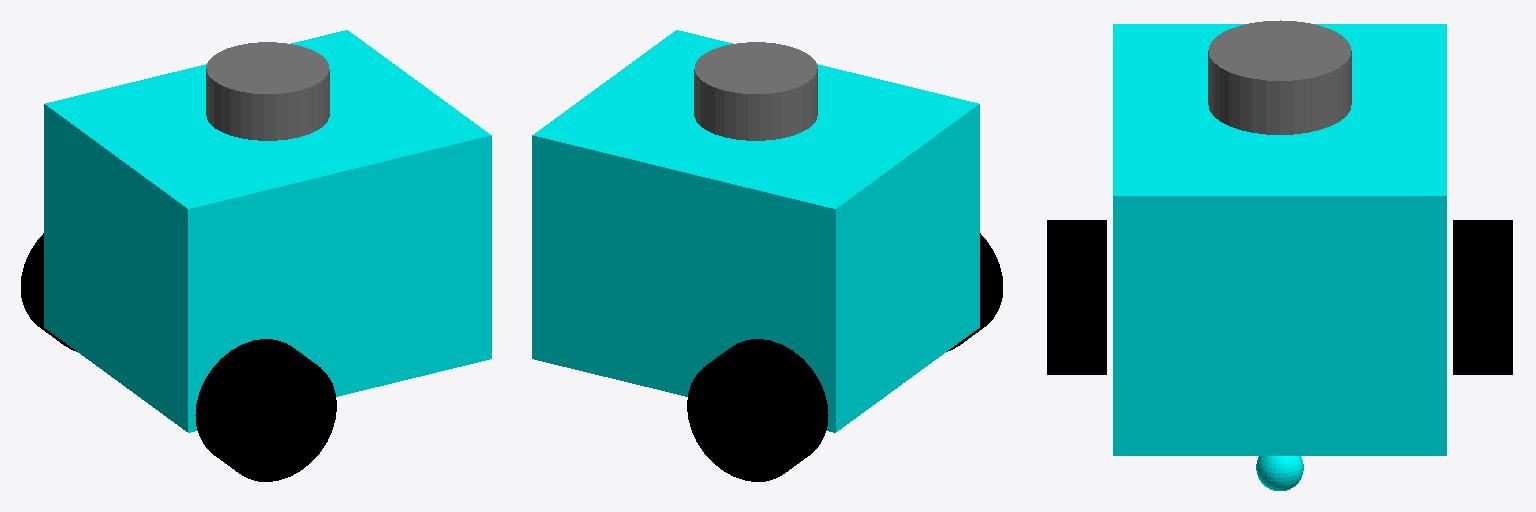
robot.urdf — hbot:
<?xml version="1.0" ?>
<!-- =================================================================================== -->
<!-- |    This document was autogenerated by xacro from hbot.urdf.xacro                | -->
<!-- |    EDITING THIS FILE BY HAND IS NOT RECOMMENDED                                 | -->
<!-- =================================================================================== -->
<robot name="hbot">
  <material name="red">
    <color rgba="0.8 0 0 1"/>
  </material>
  <material name="green">
    <color rgba="0 0.8 0 1"/>
  </material>
  <material name="blue">
    <color rgba="0 0 0.8 1"/>
  </material>
  <material name="yellow">
    <color rgba="0.8 0.8 0 1"/>
  </material>
  <material name="orange">
    <color rgba="0.8 0.25 0 1"/>
  </material>
  <material name="black">
    <color rgba="0 0 0 1"/>
  </material>
  <material name="dark_gray">
    <color rgba="0.5 0.5 0.5 1"/>
  </material>
  <material name="gray">
    <color rgba="0.753 0.753 0.753 1"/>
  </material>
  <material name="silver">
    <color rgba="0.88 0.88 0.88 1"/>
  </material>
  <material name="white">
    <color rgba="1 1 1 1"/>
  </material>
  <link name="base_footprint"/>
  <joint name="base_joint" type="fixed">
    <parent link="base_footprint"/>
    <child link="base_link"/>
    <origin rpy="0 0 0" xyz="0 0 0.0825"/>
  </joint>
  <link name="base_link">
    <visual>
      <geometry>
        <box size="0.17 0.14 0.12"/>
      </geometry>
      <material name="Cyan">
        <color rgba="0 1 1 1"/>
      </material>
    </visual>
    <collision>
      <geometry>
        <box size="0.17 0.14 0.12"/>
      </geometry>
    </collision>
    <inertial>
      <origin rpy="0 0 0" xyz="0 0 0"/>
      <mass value="0.5"/>
      <inertia ixx="0.0014166666666666668" ixy="0.0" ixz="0.0" iyy="0.0018041666666666668" iyz="0.0" izz="0.0020208333333333337"/>
    </inertial>
  </link>
  <gazebo reference="base_link">
    <material>Gazebo/Green</material>
  </gazebo>
  <link name="left_wheel_link">
    <visual>
      <origin rpy="1.5707963267948966 0 0" xyz="0 0 0"/>
      <geometry>
        <cylinder length="0.025" radius="0.0325"/>
        <cylinder length="0.01" radius="0.005">
          <origin rpy="0 0 0" xyz="0 0 0.0175"/>
        </cylinder>
      </geometry>
      <material name="Black">
        <color rgba="0 0 0 1"/>
      </material>
    </visual>
    <collision>
      <origin rpy="1.5707963267948966 0 0" xyz="0 0 0"/>
      <geometry>
        <cylinder length="0.025" radius="0.0325"/>
      </geometry>
    </collision>
    <inertial>
      <origin rpy="0 0 0" xyz="0 0 0"/>
      <mass value="0.1"/>
      <inertia ixx="3.161458333333334e-05" ixy="0.0" ixz="0.0" iyy="3.161458333333334e-05" iyz="0.0" izz="5.281250000000001e-05"/>
    </inertial>
  </link>
  <joint name="left_wheel_joint" type="continuous">
    <parent link="base_link"/>
    <child link="left_wheel_link"/>
    <origin rpy="0 0 0" xyz="-0.05 0.085 -0.05"/>
    <axis xyz="0 1 0"/>
  </joint>
  <gazebo reference="left_wheel_link">
    <material>Gazebo/Black</material>
  </gazebo>
  <link name="right_wheel_link">
    <visual>
      <origin rpy="1.5707963267948966 0 0" xyz="0 0 0"/>
      <geometry>
        <cylinder length="0.025" radius="0.0325"/>
        <cylinder length="0.01" radius="0.005">
          <origin rpy="0 0 0" xyz="0 0 0.0175"/>
        </cylinder>
      </geometry>
      <material name="Black">
        <color rgba="0 0 0 1"/>
      </material>
    </visual>
    <collision>
      <origin rpy="1.5707963267948966 0 0" xyz="0 0 0"/>
      <geometry>
        <cylinder length="0.025" radius="0.0325"/>
      </geometry>
    </collision>
    <inertial>
      <origin rpy="0 0 0" xyz="0 0 0"/>
      <mass value="0.1"/>
      <inertia ixx="3.161458333333334e-05" ixy="0.0" ixz="0.0" iyy="3.161458333333334e-05" iyz="0.0" izz="5.281250000000001e-05"/>
    </inertial>
  </link>
  <joint name="right_wheel_joint" type="continuous">
    <parent link="base_link"/>
    <child link="right_wheel_link"/>
    <origin rpy="0 0 0" xyz="-0.05 -0.085 -0.05"/>
    <axis xyz="0 1 0"/>
  </joint>
  <gazebo reference="right_wheel_link">
    <material>Gazebo/Black</material>
  </gazebo>
  <!-- Caster -->
  <link name="front_caster">
    <visual>
      <geometry>
        <sphere radius="0.01"/>
      </geometry>
      <material name="Cyan">
        <color rgba="0 1.0 1.0 1.0"/>
      </material>
    </visual>
    <collision>
      <geometry>
        <sphere radius="0.01"/>
      </geometry>
    </collision>
    <inertial>
      <mass value="0.001"/>
      <inertia ixx="0.001" ixy="0" ixz="0" iyy="0.001" iyz="0" izz="0.001"/>
    </inertial>
  </link>
  <joint name="front_caster_joint" type="fixed">
    <parent link="base_link"/>
    <child link="front_caster"/>
    <origin rpy="0 0 0" xyz="0.07 0.0 -0.07250000000000001"/>
  </joint>
  <gazebo reference="front_caster">
    <mu1 value="0.001"/>
    <mu2 value="0.001"/>
    <kp value="1000000.0"/>
    <kd value="1.0"/>
    <material>Gazebo/Cyan</material>
  </gazebo>
  <!-- Lidar -->
  <link name="laser">
    <visual>
      <geometry>
        <cylinder length="0.025" radius="0.03"/>
      </geometry>
      <material name="Gray">
        <color rgba="0.5 0.5 0.5 1"/>
      </material>
    </visual>
    <collision>
      <geometry>
        <cylinder length="0.025" radius="0.03"/>
      </geometry>
    </collision>
    <inertial>
      <mass value="0.001"/>
      <inertia ixx="0.001" ixy="0" ixz="0" iyy="0.001" iyz="0" izz="0.001"/>
    </inertial>
  </link>
  <joint name="lidar_joint" type="fixed">
    <parent link="base_link"/>
    <child link="laser"/>
    <origin rpy="0 0 3.14" xyz="0 0 0.075"/>
  </joint>
  <gazebo reference="laser">
    <sensor name="lidar" type="ray">
      <always_on>true</always_on>
      <visualize>false</visualize>
      <update_rate>10</update_rate>
      <ray>
        <scan>
          <horizontal>
            <samples>360</samples>
            <resolution>1</resolution>
            <min_angle>-3.14</min_angle>
            <max_angle>3.14</max_angle>
          </horizontal>
        </scan>
        <range>
          <min>0.25</min>
          <max>6.0</max>
          <resolution>0.02</resolution>
        </range>
        <noise>
          <type>gaussian</type>
          <mean>0.0</mean>
          <stddev>0.01</stddev>
        </noise>
      </ray>
      <plugin filename="libgazebo_ros_ray_sensor.so" name="scan">
        <ros>
          <remapping>~/out:=scan</remapping>
        </ros>
        <output_type>sensor_msgs/LaserScan</output_type>
        <frame_name>laser</frame_name>
      </plugin>
    </sensor>
  </gazebo>
  <gazebo reference="laser">
    <material>Gazebo/Yellow</material>
  </gazebo>
  <gazebo>
    <plugin filename="libgazebo_ros_diff_drive.so" name="two_front_wheeled_diff_drive">
      <update_rate>30</update_rate>
      <left_joint>left_wheel_joint</left_joint>
      <right_joint>right_wheel_joint</right_joint>
      <wheel_separation>0.17</wheel_separation>
      <wheel_diameter>0.065</wheel_diameter>
      <max_wheel_torque>20</max_wheel_torque>
      <max_wheel_acceleration>1.0</max_wheel_acceleration>
      <command_topic>cmd_vel</command_topic>
      <publish_odom>true</publish_odom>
      <publish_odom_tf>true</publish_odom_tf>
      <publish_wheel_tf>true</publish_wheel_tf>
      <odometry_topic>odom</odometry_topic>
      <odometry_frame>odom</odometry_frame>
      <robot_base_frame>base_footprint</robot_base_frame>
      <odometry_source>1</odometry_source>
    </plugin>
  </gazebo>
</robot>

--- Render facts (derived) ---
The picture shows the robot from 3 angles, left to right: view 1: azimuth 30°, elevation 25°; view 2: azimuth 150°, elevation 25°; view 3: azimuth 270°, elevation 25°; orthographic projection.
Model hbot with 6 links and 5 joints (2 continuous, 3 fixed), rooted at base_footprint, posed every joint at zero.
Links seen in each view (by area): view 1: base_link, right_wheel_link, laser, left_wheel_link; view 2: base_link, left_wheel_link, laser, right_wheel_link; view 3: base_link, laser, left_wheel_link, right_wheel_link, front_caster.
Link boxes in pixels (bbox=[...]): base_link: bbox=[44, 30, 491, 432]; right_wheel_link: bbox=[195, 339, 336, 481]; laser: bbox=[206, 42, 329, 140]; left_wheel_link: bbox=[21, 233, 76, 351]; base_link: bbox=[532, 30, 979, 432]; left_wheel_link: bbox=[687, 339, 828, 481]; laser: bbox=[694, 42, 817, 140]; right_wheel_link: bbox=[947, 233, 1002, 351]; base_link: bbox=[1113, 24, 1446, 455]; laser: bbox=[1208, 20, 1351, 134]; left_wheel_link: bbox=[1453, 220, 1512, 374]; right_wheel_link: bbox=[1047, 220, 1106, 374]; front_caster: bbox=[1256, 456, 1303, 490].
Size in the robot's own frame: 0.17 by 0.195 by 0.17 metres.
Geometry: primitives only (box / cylinder / sphere), no mesh files.
